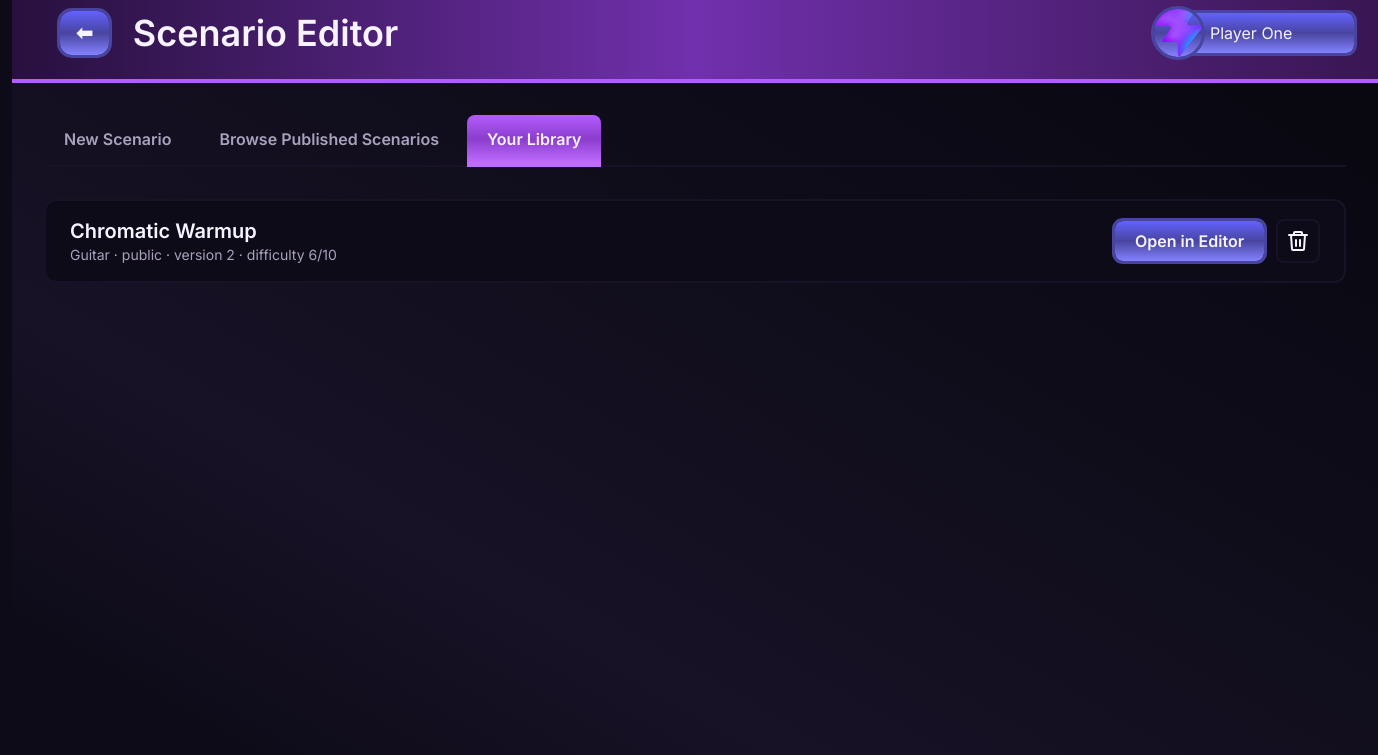
Test: Your Library › lists a saved scenario and opens it in the editor
Expected: the heading "Chromatic Warmup" is shown, [70,219,257,243]
Expected: the text "Guitar · public · version 2 · difficulty 6/10" is shown, [70,245,337,265]
Click the button "Open in Editor". click: [1190, 241]
box: [1115,221,1264,261]
(page scrolled)
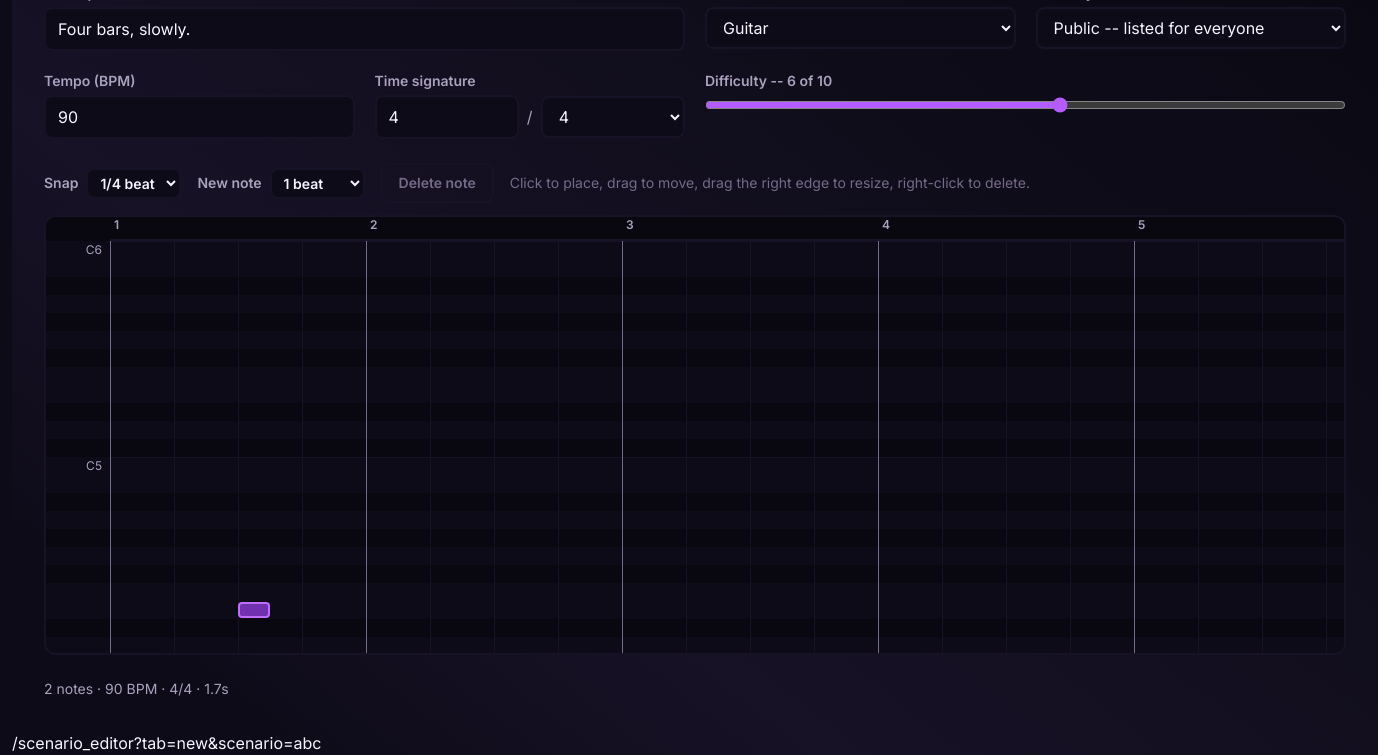
Expected: the text with test id "location" shows "scenario=abc", [12,733,322,753]
